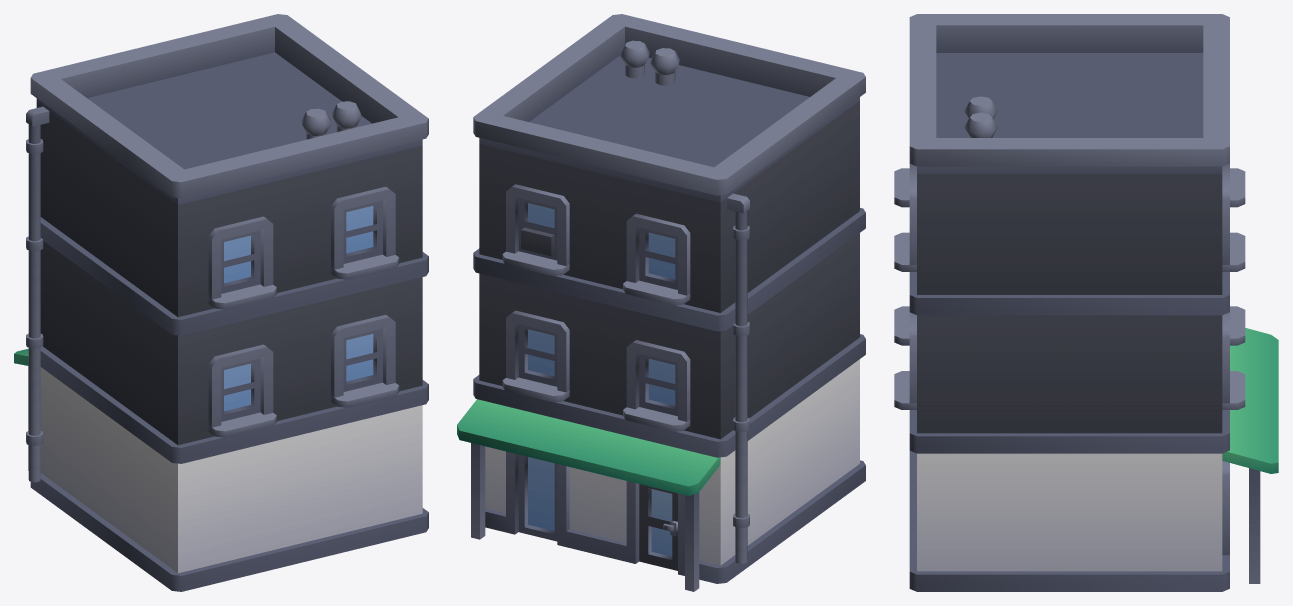
Rendered from building-h.glb.
3 views of the same model, side by side, from view 1: azimuth 30°, elevation 25°; view 2: azimuth 150°, elevation 25°; view 3: azimuth 270°, elevation 25° (orthographic). The views are drawn at different scales.
Parts seen in each view (by area): view 1: building-h; view 2: building-h; view 3: building-h.
Boxes of the visible parts, left/top/right/bottom form: building-h: left=14, top=14, right=428, bottom=591; building-h: left=457, top=14, right=865, bottom=591; building-h: left=894, top=14, right=1278, bottom=591.
Size of the model in its own units: 0.8836 by 1.29 by 1.01.
Materials: 1 (1 with a texture image).
